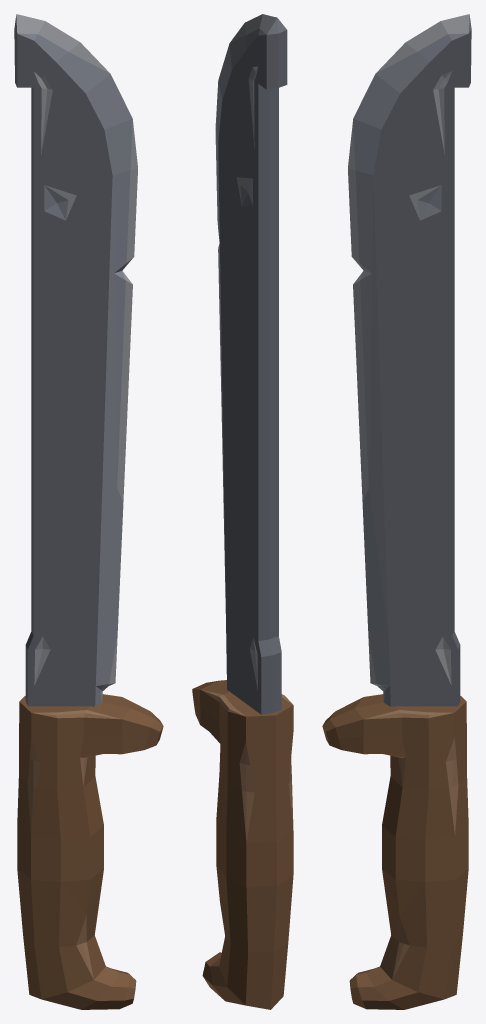
File: mesh_machete.fbx
3 renders of one model, left to right at view 1: azimuth 90°, elevation 25°; view 2: azimuth 210°, elevation 25°; view 3: azimuth 270°, elevation 25°, orthographic.
Parts seen in each view (by area): view 1: mesh_machete; view 2: mesh_machete; view 3: mesh_machete.
Part boxes in pixels (x1,y1,x2,y2): mesh_machete: (14, 14, 163, 1009); mesh_machete: (192, 14, 293, 1009); mesh_machete: (322, 14, 471, 1009).
Bounding box in the file's own units: 0.0507 × 0.8445 × 0.115.
